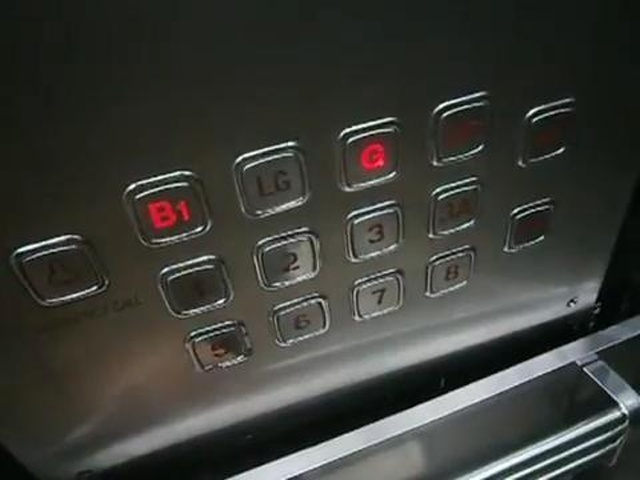1: (153, 254, 234, 319)
2: (254, 226, 322, 292)
3: (343, 199, 405, 262)
5: (181, 318, 256, 376)
6: (269, 295, 332, 350)
7: (348, 268, 406, 325)
8: (423, 245, 477, 297)
B1: (122, 171, 218, 252)
G: (335, 119, 404, 192)
LG: (230, 141, 312, 220)
alarm: (8, 233, 106, 309)
blur: (427, 91, 490, 166), (520, 100, 578, 168), (430, 175, 481, 238), (504, 199, 556, 259)
